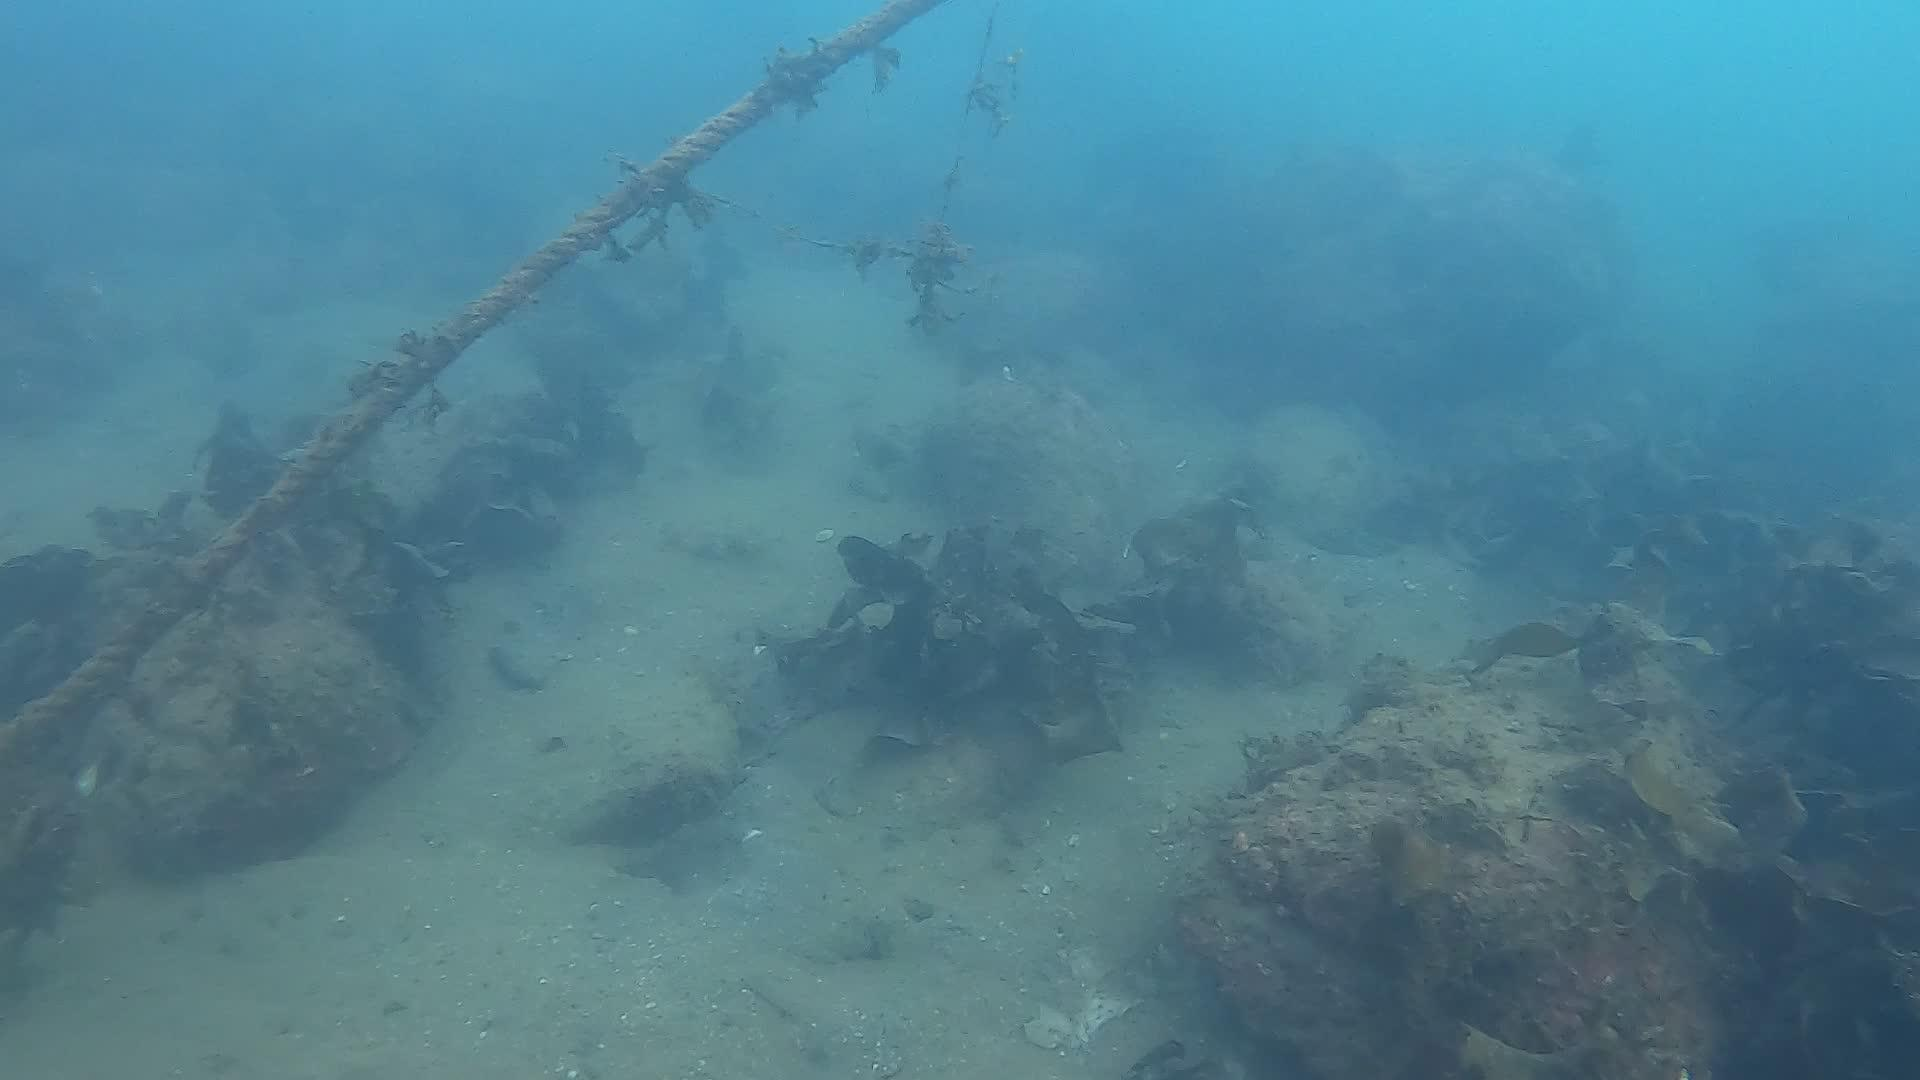rope: (0, 0, 949, 767)
